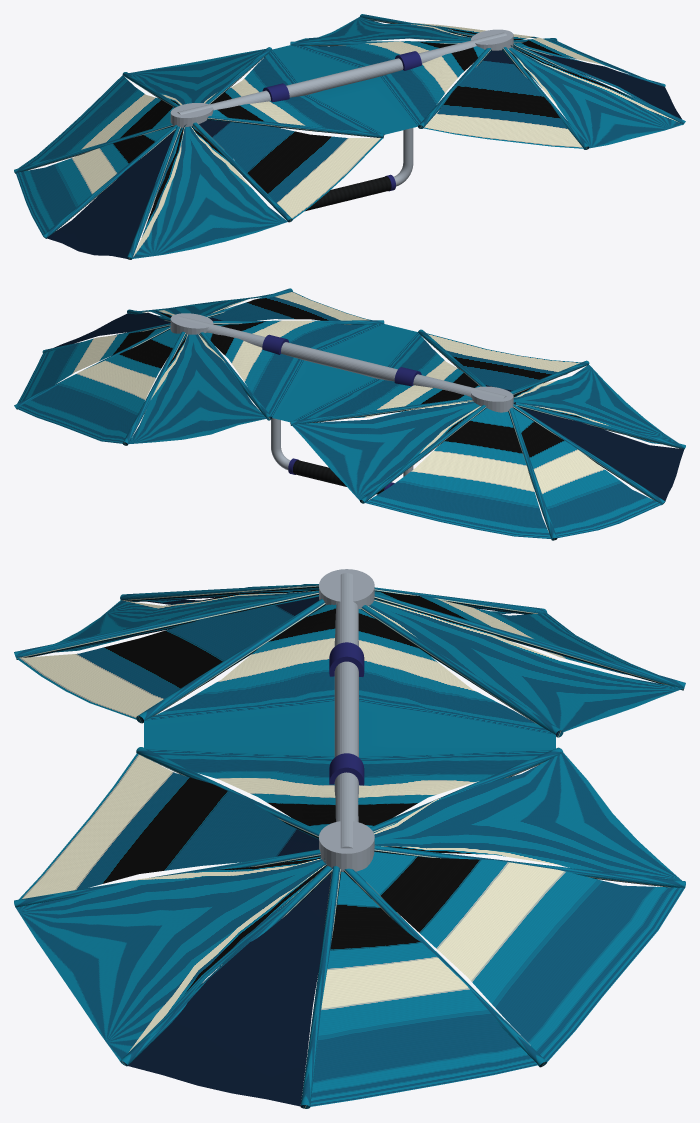
File: 滑翔伞动画.fbx
The picture shows the model from 3 angles, top to bottom: view 1: azimuth 30°, elevation 25°; view 2: azimuth 150°, elevation 25°; view 3: azimuth 270°, elevation 25°; orthographic projection. The views are drawn at different scales.
Parts seen in each view (by area): view 1: 伞面_风动, 柱体.001, 杆子, 柱体, 抓手_防滑握持段, 抓手_U形金属框; view 2: 伞面_风动, 柱体.001, 杆子, 柱体, 抓手_防滑握持段, 抓手_U形金属框; view 3: 伞面_风动, 柱体.001, 杆子, 柱体, 抓手_连接套.
Part boxes in pixels (x1,y1,x2,y2): 伞面_风动: [16, 17, 683, 258]; 柱体.001: [14, 14, 685, 259]; 杆子: [177, 32, 506, 114]; 柱体: [170, 29, 513, 127]; 抓手_防滑握持段: [305, 176, 391, 211]; 抓手_U形金属框: [278, 127, 413, 186]; 伞面_风动: [16, 291, 684, 538]; 柱体.001: [14, 288, 685, 540]; 杆子: [177, 316, 506, 398]; 柱体: [170, 313, 513, 412]; 抓手_防滑握持段: [293, 460, 384, 494]; 抓手_U形金属框: [271, 418, 413, 476]; 伞面_风动: [15, 585, 684, 1106]; 柱体.001: [14, 584, 685, 1108]; 杆子: [334, 573, 358, 848]; 柱体: [319, 569, 374, 871]; 抓手_连接套: [329, 642, 364, 676].
Size of the model in its own units: 254 by 51.4 by 138.
4 materials, 2 textured.
